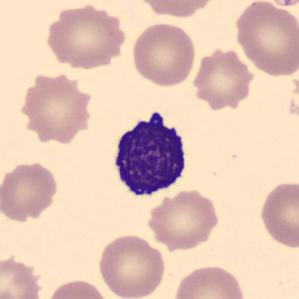Lymphocyte: (105, 106, 194, 204)
RBC: (42, 1, 129, 70), (20, 74, 92, 146), (232, 0, 298, 78), (144, 186, 222, 250), (96, 232, 167, 299), (130, 21, 198, 88), (189, 44, 257, 110), (0, 158, 61, 224), (257, 179, 298, 250), (171, 262, 248, 299), (0, 252, 46, 299), (130, 0, 221, 19), (43, 276, 112, 299), (260, 0, 299, 8)
